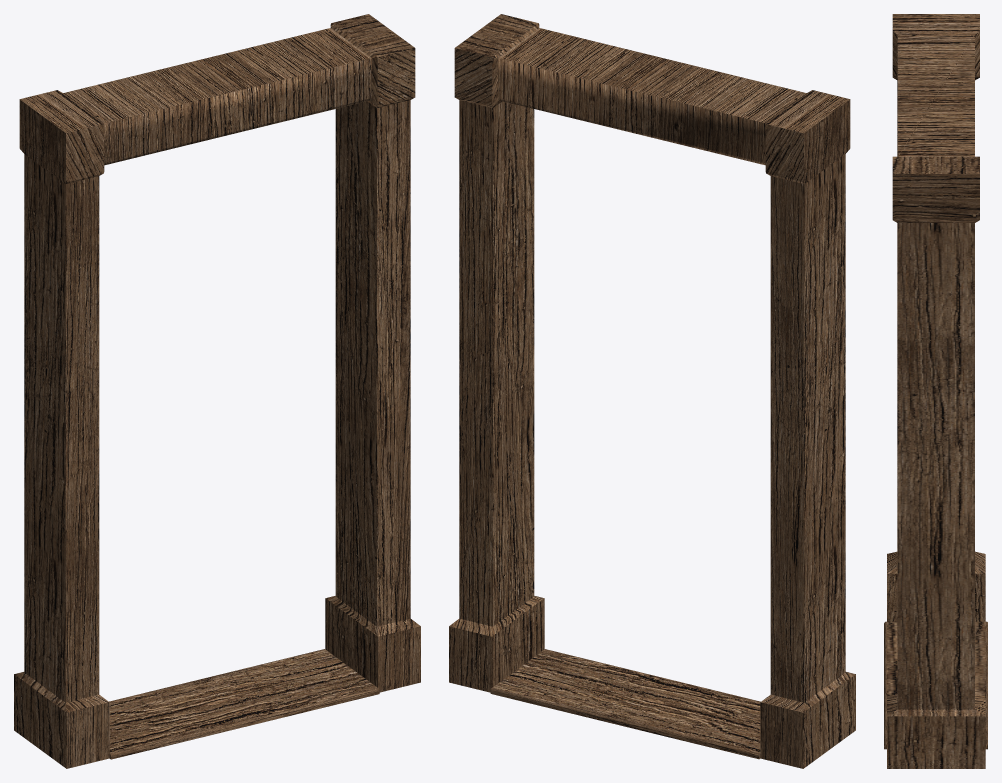
The model's file is Karniz.fbx.
3 renders of one model, left to right at view 1: azimuth 30°, elevation 25°; view 2: azimuth 150°, elevation 25°; view 3: azimuth 270°, elevation 25°, orthographic. The views are drawn at different scales.
Visible parts, largest first — view 1: Castle-Karniz; view 2: Castle-Karniz; view 3: Castle-Karniz.
Part boxes in pixels (x1,y1,x2,y2): Castle-Karniz: (14,14,420,768); Castle-Karniz: (449,14,855,768); Castle-Karniz: (884,14,987,768).
Bounding box in the file's own units: 47.07 × 80.35 × 12.74.
